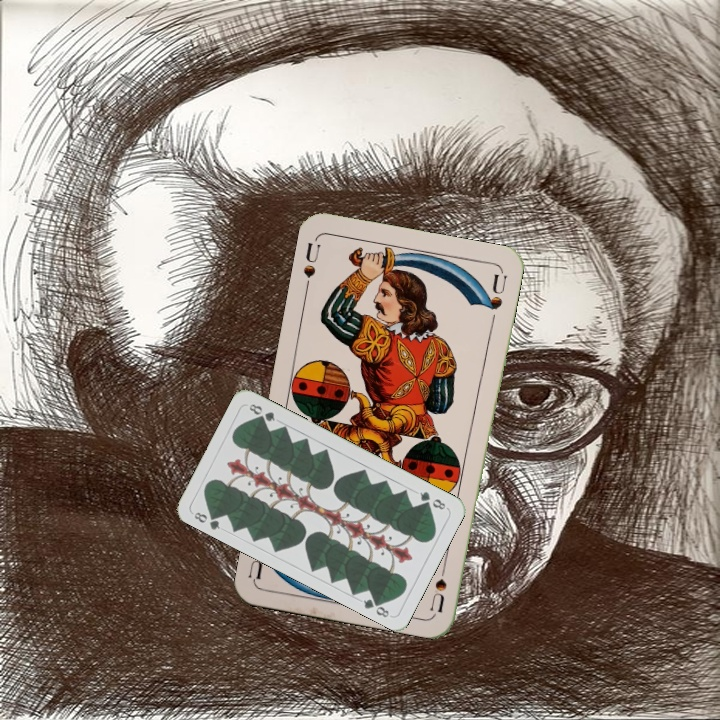G8: (416, 487, 449, 512), (190, 508, 223, 533)
SU: (426, 554, 450, 614), (299, 236, 323, 294)
